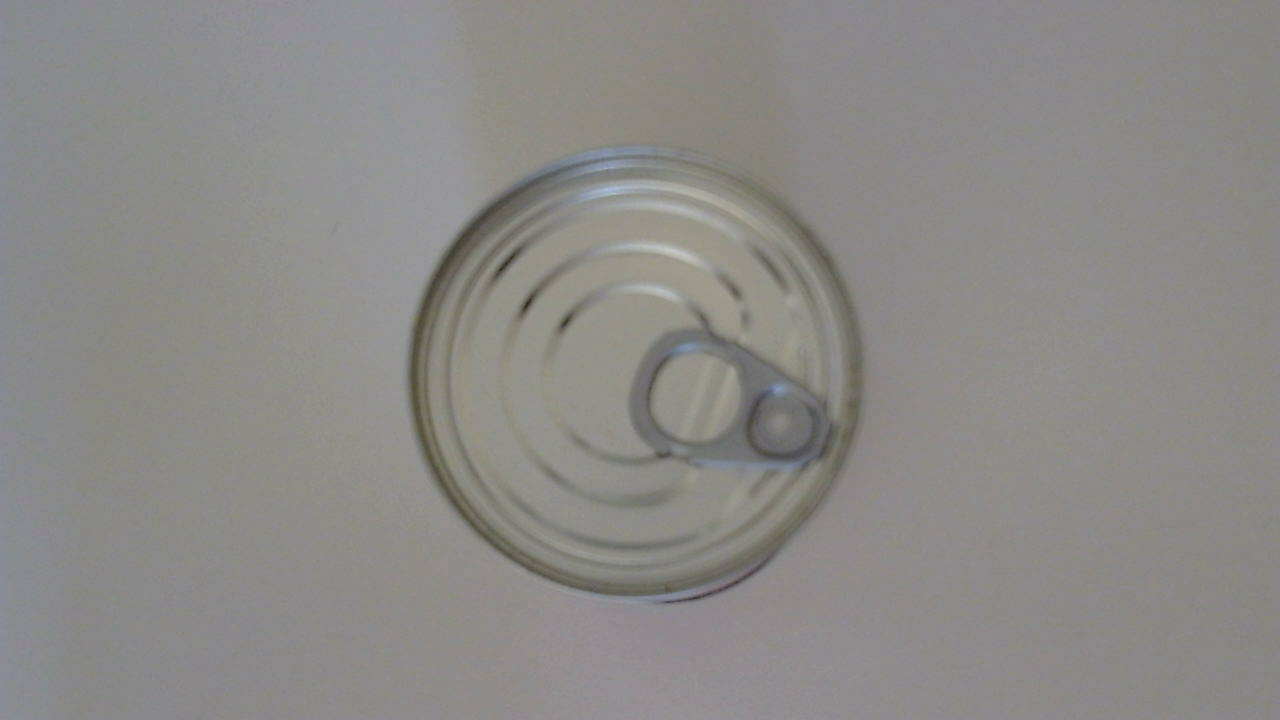Metal Tin: (406, 155, 874, 623)
